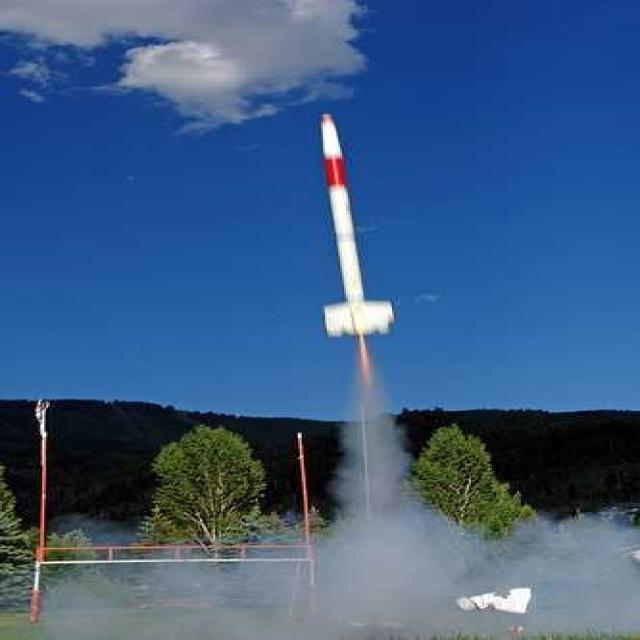missile: (310, 111, 405, 336)
